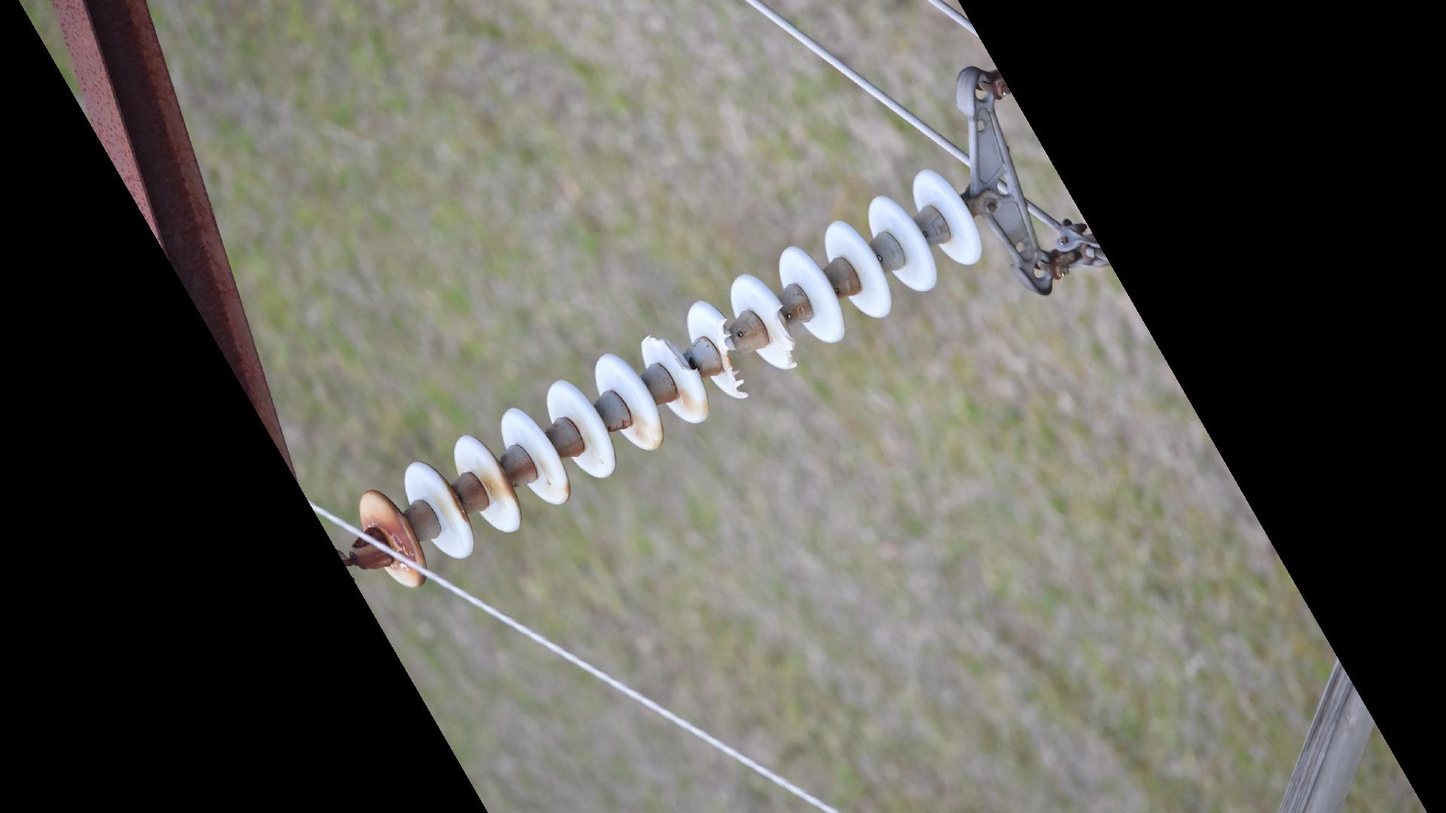insulator: (352, 163, 990, 595)
insulator_breakage: (712, 314, 753, 404), (636, 331, 702, 376), (770, 299, 804, 373)
